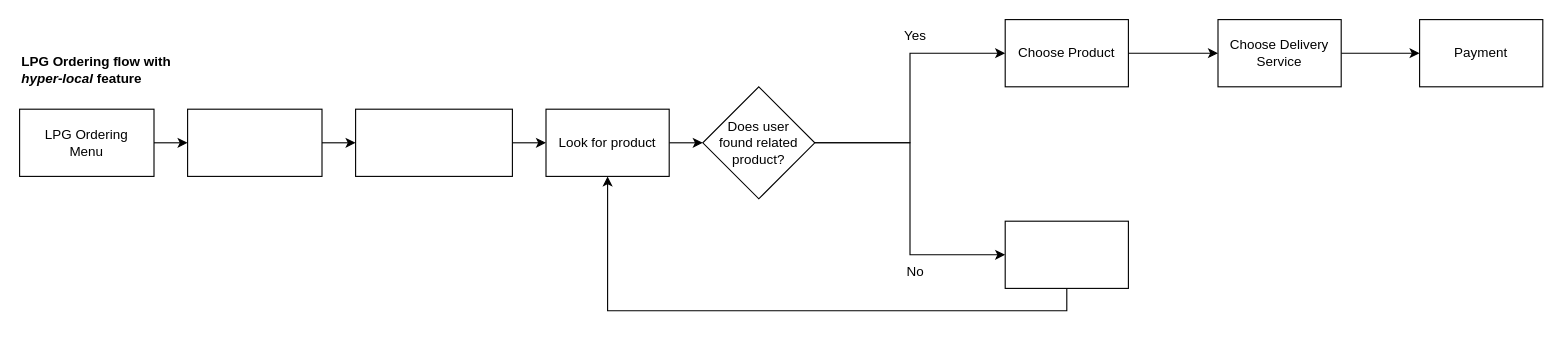
This 1562x339 diagram has some shape labels left out. Here are the shapes that lost their labels. From the top down, the centre of each, then its label:
pixel 254 142: Get Customer Delivery Address and Info
pixel 433 142: Redirect to nearest Pangkalan
pixel 1066 254: Choose other nearest Pangkalan
